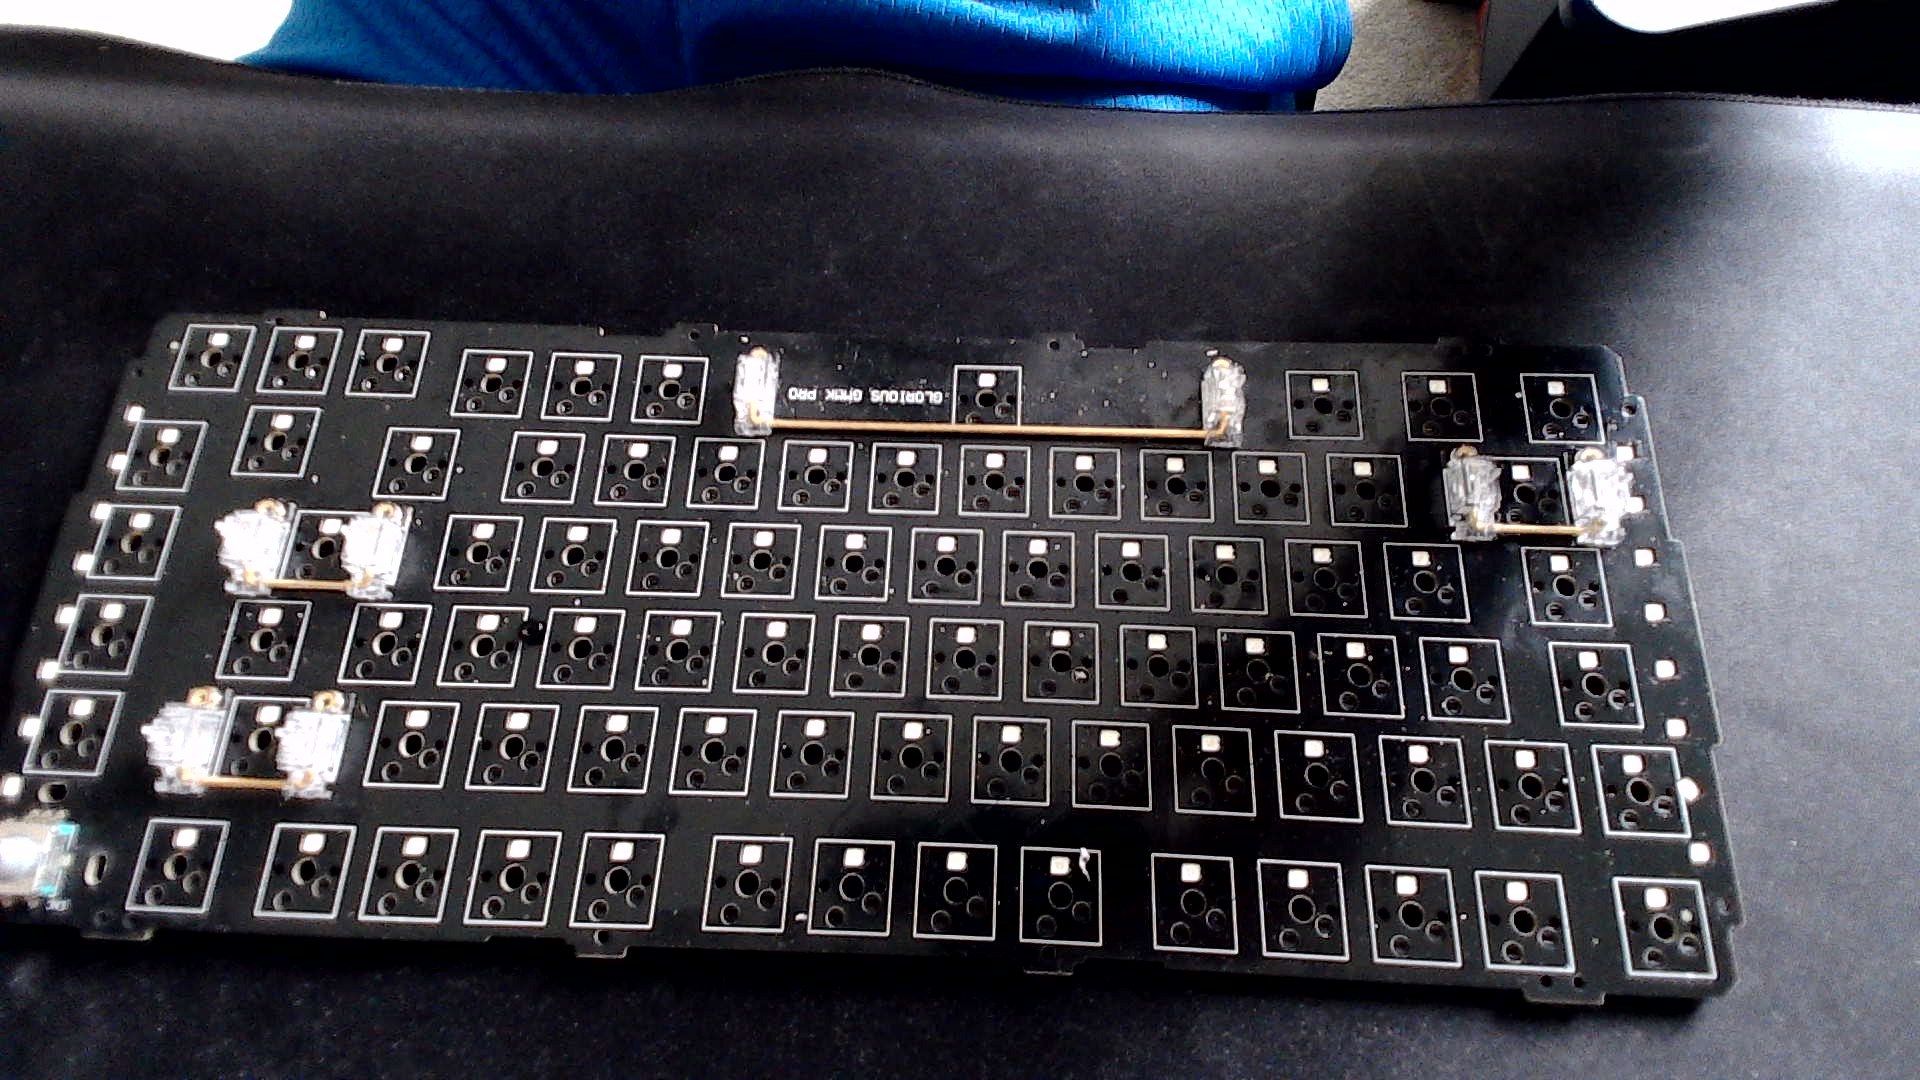pcb: (1, 295, 1783, 989)
